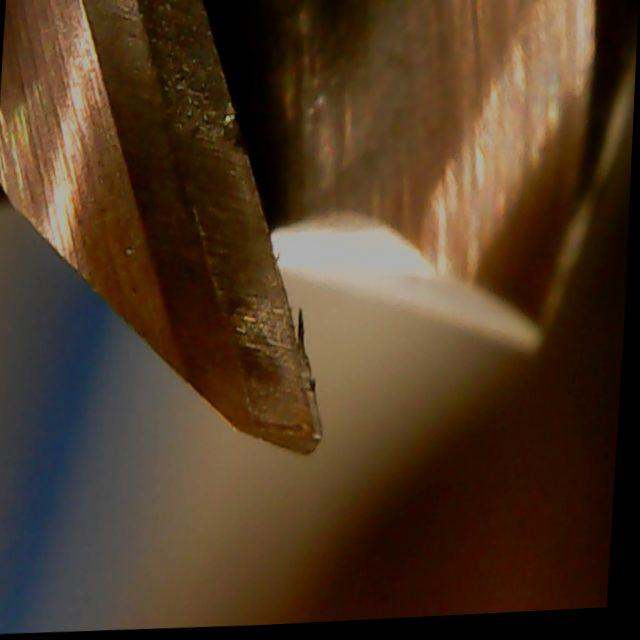Tool-wear-class-1: (147, 241, 365, 474)
